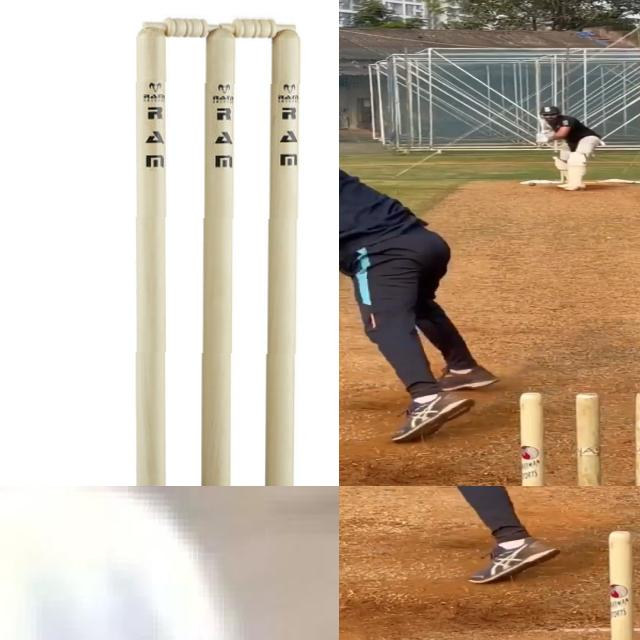Cricket ball: (0, 486, 266, 640), (528, 182, 537, 187)
Stumps: (129, 13, 307, 486), (518, 389, 640, 486)
